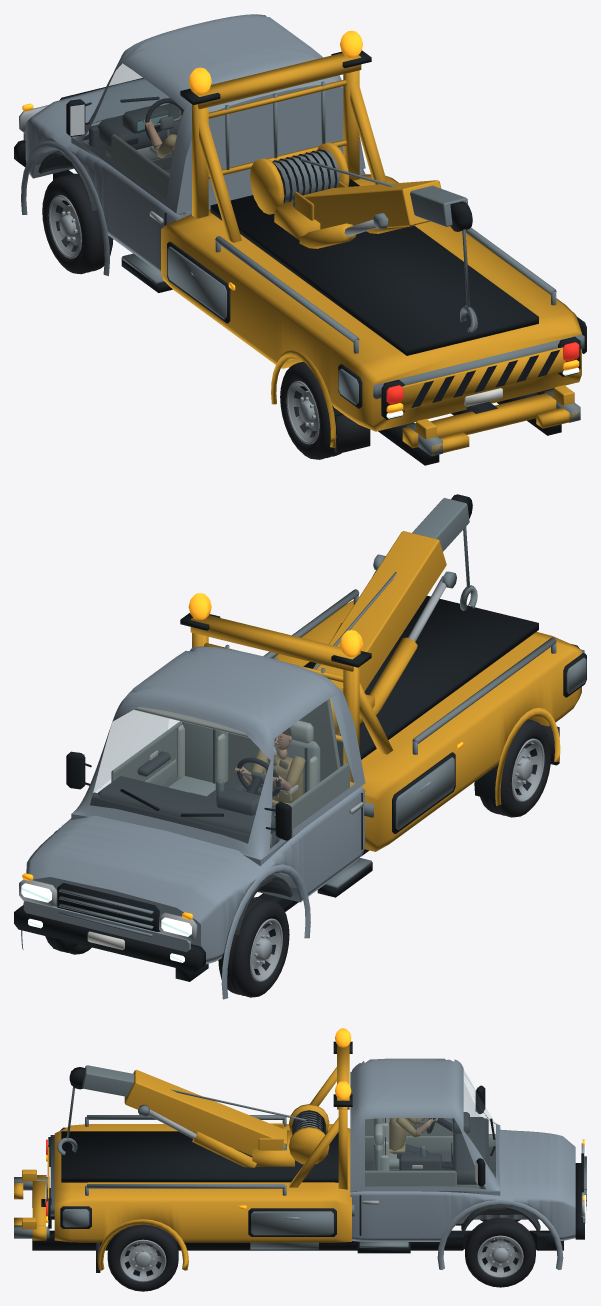
Rendered from towtruck.glb.
3 views of the same model, one above another, from view 1: azimuth 30°, elevation 25°; view 2: azimuth 150°, elevation 25°; view 3: azimuth 270°, elevation 25° (orthographic). The views are drawn at different scales.
Parts seen in each view (by area): view 1: recovery_ochre, body, dark_chassis, brushed_work_steel, traffic_cab_glass, special_cabin_finish.002, tire_rubber, tire_rubber.002, satin_wheel_steel, satin_wheel_steel.002, tire_rubber.004, amber_work_lamp (+2 smaller); view 2: body, recovery_ochre, traffic_cab_glass, dark_chassis, special_cabin_finish.002, brushed_work_steel, tire_rubber, tire_rubber.002, bright_alloy, satin_wheel_steel, satin_wheel_steel.002, headlamp (+1 smaller); view 3: recovery_ochre, body, dark_chassis, traffic_cab_glass, special_cabin_finish.002, brushed_work_steel, tire_rubber.001, tire_rubber.003, satin_wheel_steel.001, satin_wheel_steel.003, bright_alloy, amber_work_lamp.
Part boxes in pixels (bbox=[...]): recovery_ochre: bbox=[161, 53, 581, 455]; body: bbox=[21, 14, 365, 275]; dark_chassis: bbox=[14, 50, 586, 465]; brushed_work_steel: bbox=[122, 81, 584, 456]; traffic_cab_glass: bbox=[82, 63, 183, 198]; special_cabin_finish.002: bbox=[38, 103, 190, 215]; tire_rubber: bbox=[42, 173, 113, 274]; tire_rubber.002: bbox=[280, 361, 341, 459]; satin_wheel_steel: bbox=[48, 195, 81, 258]; satin_wheel_steel.002: bbox=[286, 381, 319, 444]; tire_rubber.004: bbox=[334, 388, 553, 453]; amber_work_lamp: bbox=[188, 30, 362, 290]; body: bbox=[21, 646, 365, 999]; recovery_ochre: bbox=[190, 531, 581, 851]; traffic_cab_glass: bbox=[90, 695, 353, 848]; dark_chassis: bbox=[14, 494, 586, 981]; special_cabin_finish.002: bbox=[90, 699, 349, 934]; brushed_work_steel: bbox=[59, 498, 586, 936]; tire_rubber: bbox=[218, 897, 289, 997]; tire_rubber.002: bbox=[480, 719, 551, 817]; bright_alloy: bbox=[19, 567, 446, 941]; satin_wheel_steel: bbox=[250, 918, 282, 981]; satin_wheel_steel.002: bbox=[511, 738, 544, 801]; headlamp: bbox=[21, 883, 191, 962]; recovery_ochre: bbox=[14, 1044, 351, 1270]; body: bbox=[350, 1058, 585, 1269]; dark_chassis: bbox=[32, 1041, 584, 1256]; traffic_cab_glass: bbox=[365, 1071, 495, 1188]; special_cabin_finish.002: bbox=[355, 1112, 540, 1231]; brushed_work_steel: bbox=[14, 1065, 586, 1249]; tire_rubber.001: bbox=[465, 1217, 535, 1287]; tire_rubber.003: bbox=[107, 1224, 178, 1291]; satin_wheel_steel.001: bbox=[477, 1235, 523, 1277]; satin_wheel_steel.003: bbox=[120, 1239, 166, 1282]; bright_alloy: bbox=[148, 1109, 584, 1219]; amber_work_lamp: bbox=[239, 1028, 351, 1209].
Size of the model in its own units: 2.4 by 2.78 by 7.25.
